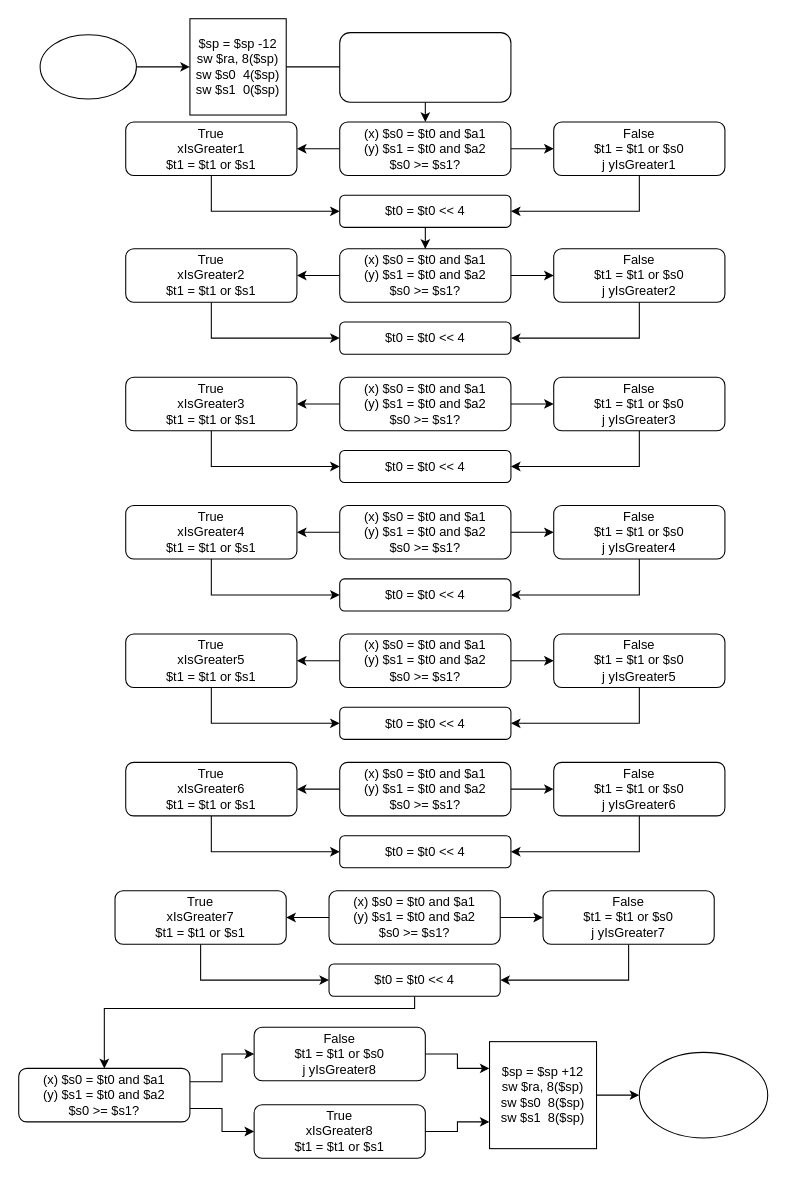
Image size: 786x1177. Some labels were removed from this diagram. Each missing label, with the box of its shape:
$v0 = $t1 jr $ra Return to QuadBitCIpher: (638, 1051, 768, 1138)
Initialize Mask and Result addi $t0, $zero, 0x0000000f li $t1, 0: (339, 32, 511, 102)
Start QuadMinMixer: (39, 34, 136, 99)
